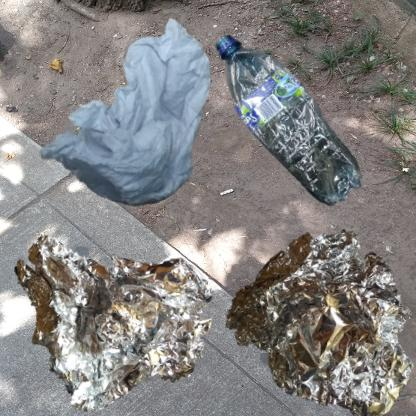aluminio: (10, 213, 229, 416), (213, 213, 416, 416)
botella: (213, 10, 386, 252)
papel: (10, 10, 269, 253)
